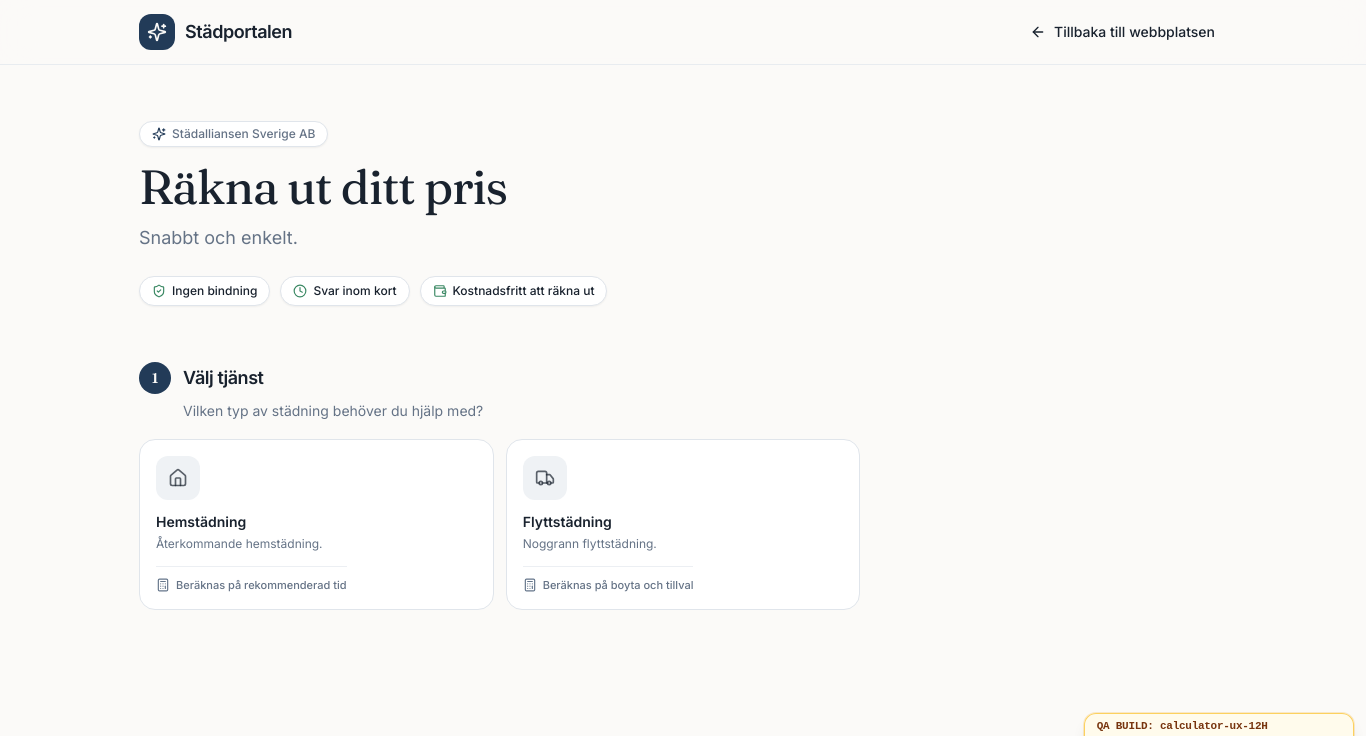
Test case: PriceCalculator — plan card hourly-rate visibility (Slice 12J) › shows per-plan hourly rates in hourly_rate_by_plan mode
This screenshot has width=1366, height=736.
What coordinates should you click on to do the following:
click the button "Hemstädning"
I would click on:
 (178, 478)
Its box is 139,439 -> 494,610.
(page scrolled)
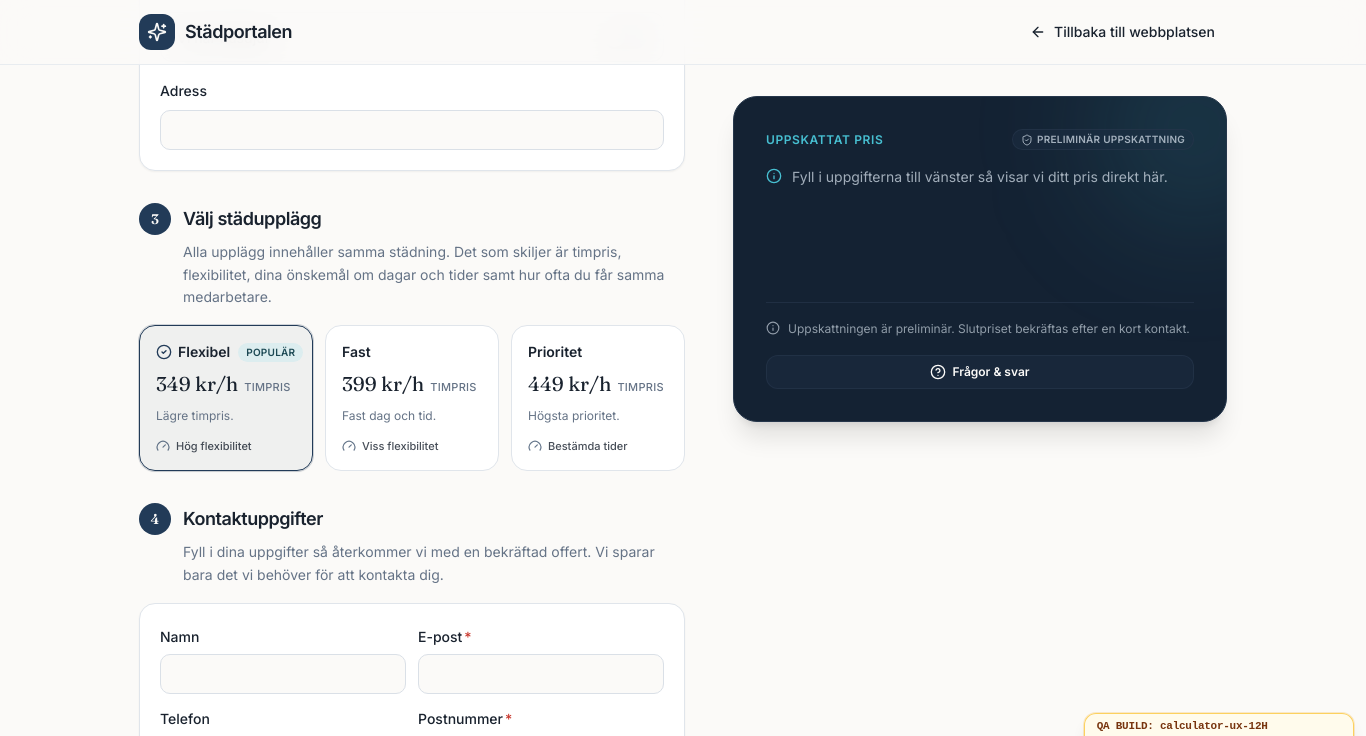
Result: the heading "Välj städupplägg" is shown at 183,205 -> 321,233
Result: the text "349 kr/h" is shown at 156,370 -> 238,398
